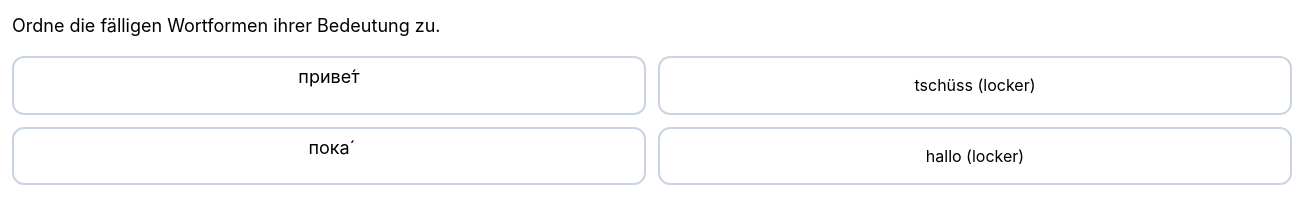
Test case: ReviewView › schickt die Zuordnung weiterhin an ihren eigenen Endpunkt
Step 1. Click the button "приве́т" → (329,85), box [12, 56, 646, 114]
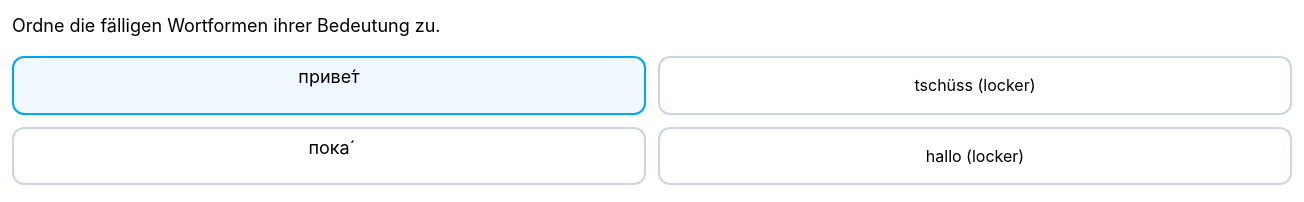
Step 2. Click the button "hallo (locker)" → (975,156), box [658, 126, 1292, 185]
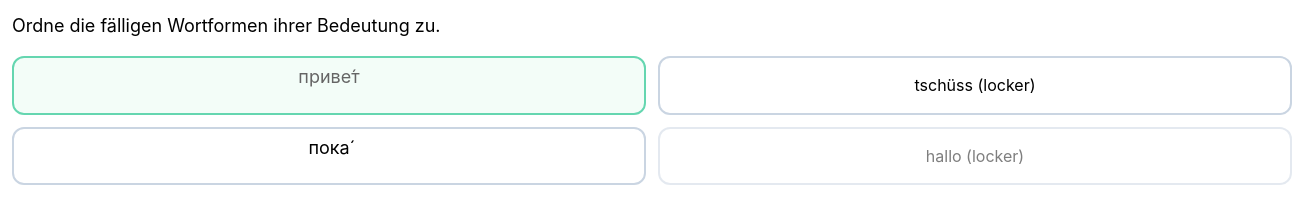
Step 3. Click the button "пока́" → (329,156), box [12, 126, 646, 185]
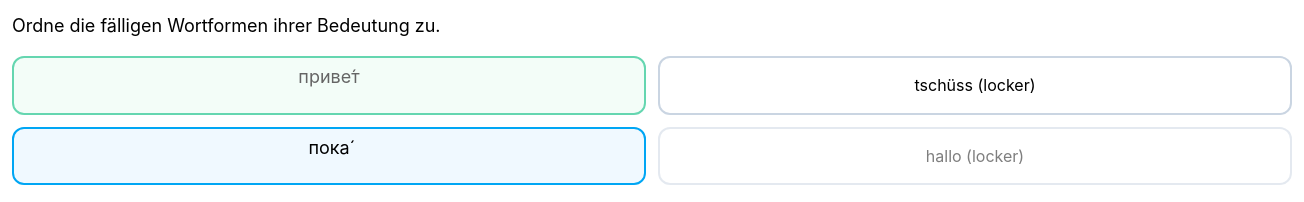
Step 4. Click the button "tschüss (locker)" → (975,85), box [658, 56, 1292, 114]
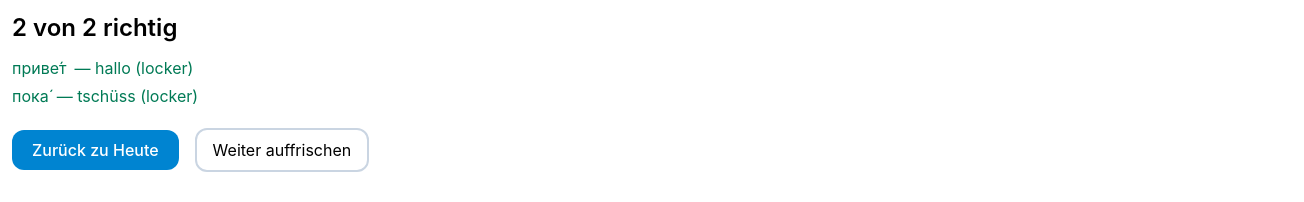
Check: the heading "2 von 2 richtig" is shown, box [12, 13, 177, 42]
